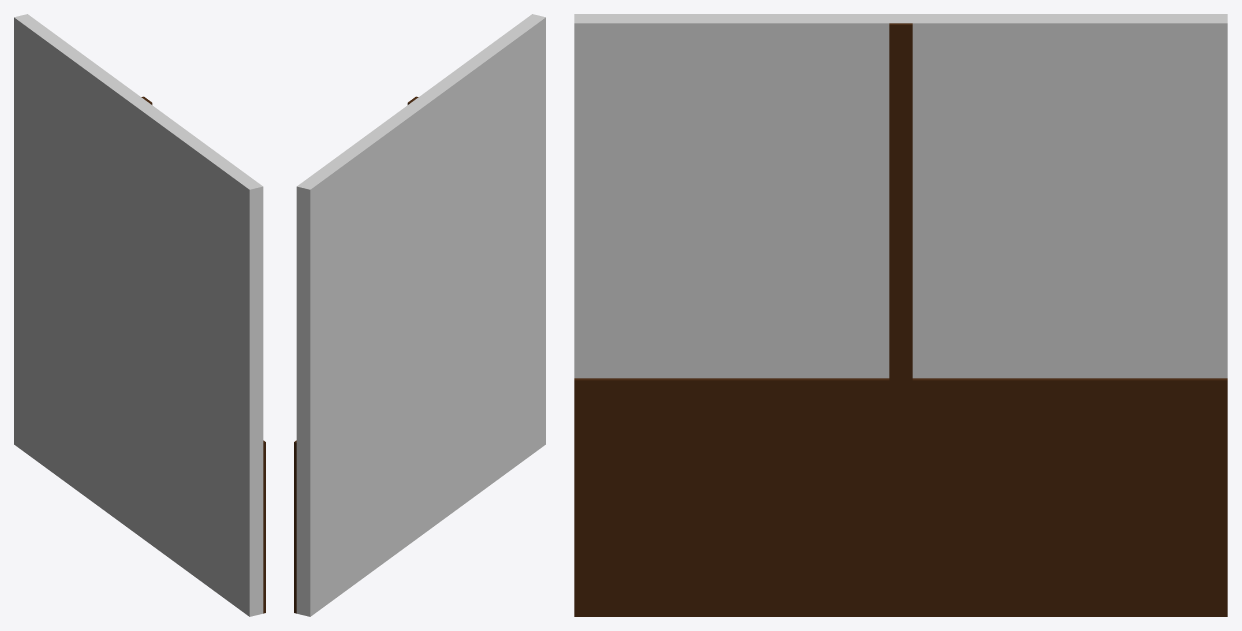
Rendered from paredmaderafancy.fbx.
3 renders of one model, left to right at view 1: azimuth 30°, elevation 25°; view 2: azimuth 150°, elevation 25°; view 3: azimuth 270°, elevation 25°, orthographic. The views are drawn at different scales.
Visible parts, largest first — view 1: Cube.001; view 2: Cube.001; view 3: Cube.001.
Part boxes in pixels (<box>): Cube.001: <box>14,14,265,616</box>; Cube.001: <box>294,14,545,616</box>; Cube.001: <box>574,14,1227,616</box>.
Size of the model in its own units: 300 by 12 by 300.
